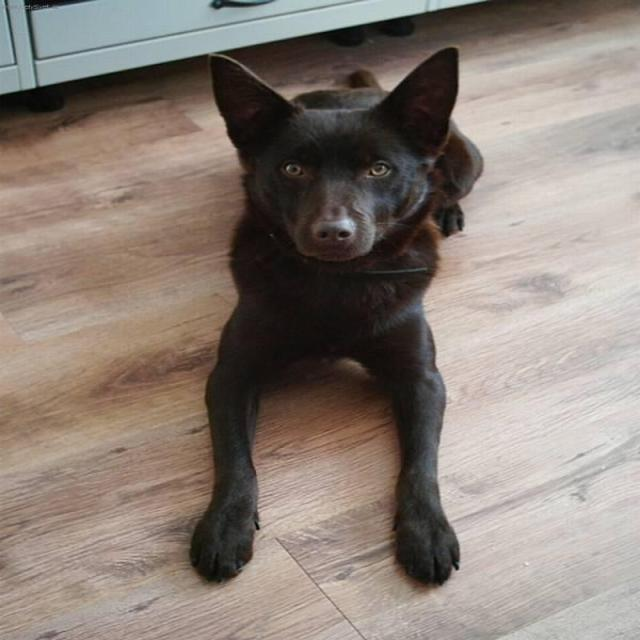dog: (136, 21, 525, 297)
